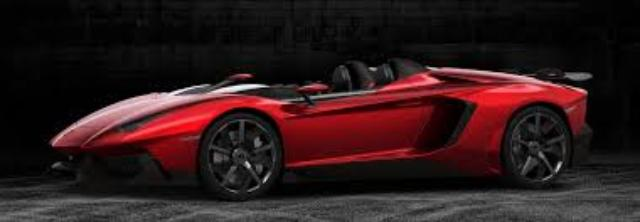lamborghini: (49, 57, 593, 201)
